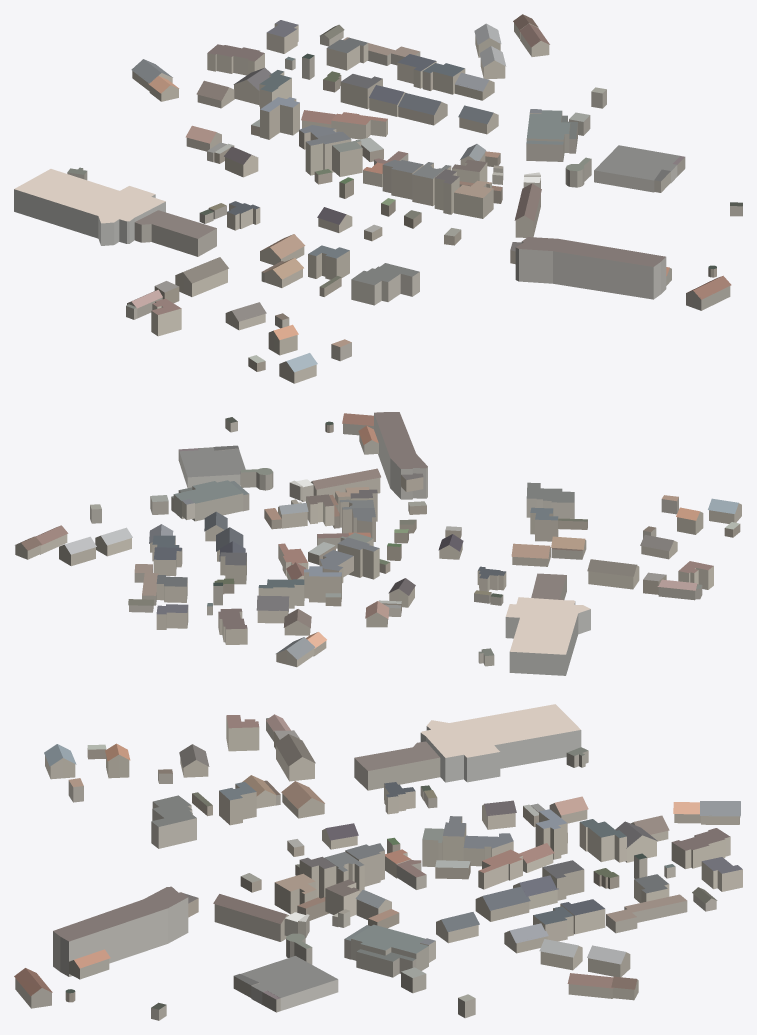
The picture shows the model from 3 angles, top to bottom: view 1: azimuth 30°, elevation 25°; view 2: azimuth 150°, elevation 25°; view 3: azimuth 270°, elevation 25°; orthographic projection. The views are drawn at different scales.
Parts seen in each view (by area): view 1: tuile; view 2: tuile; view 3: tuile.
Boxes of the visible parts, bbox=[...] form: tuile: bbox=[14, 14, 742, 383]; tuile: bbox=[15, 412, 741, 675]; tuile: bbox=[14, 704, 742, 1020].
Bounding box in the file's own units: 248 × 29.3 × 252.
